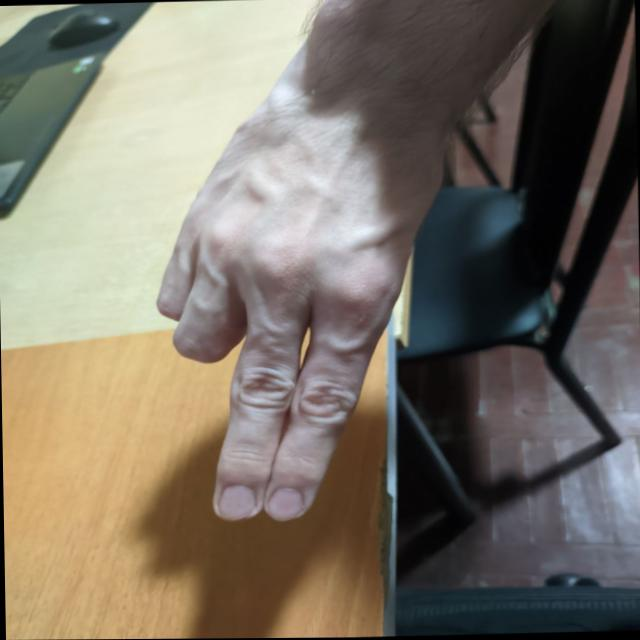p: (134, 76, 416, 543)
